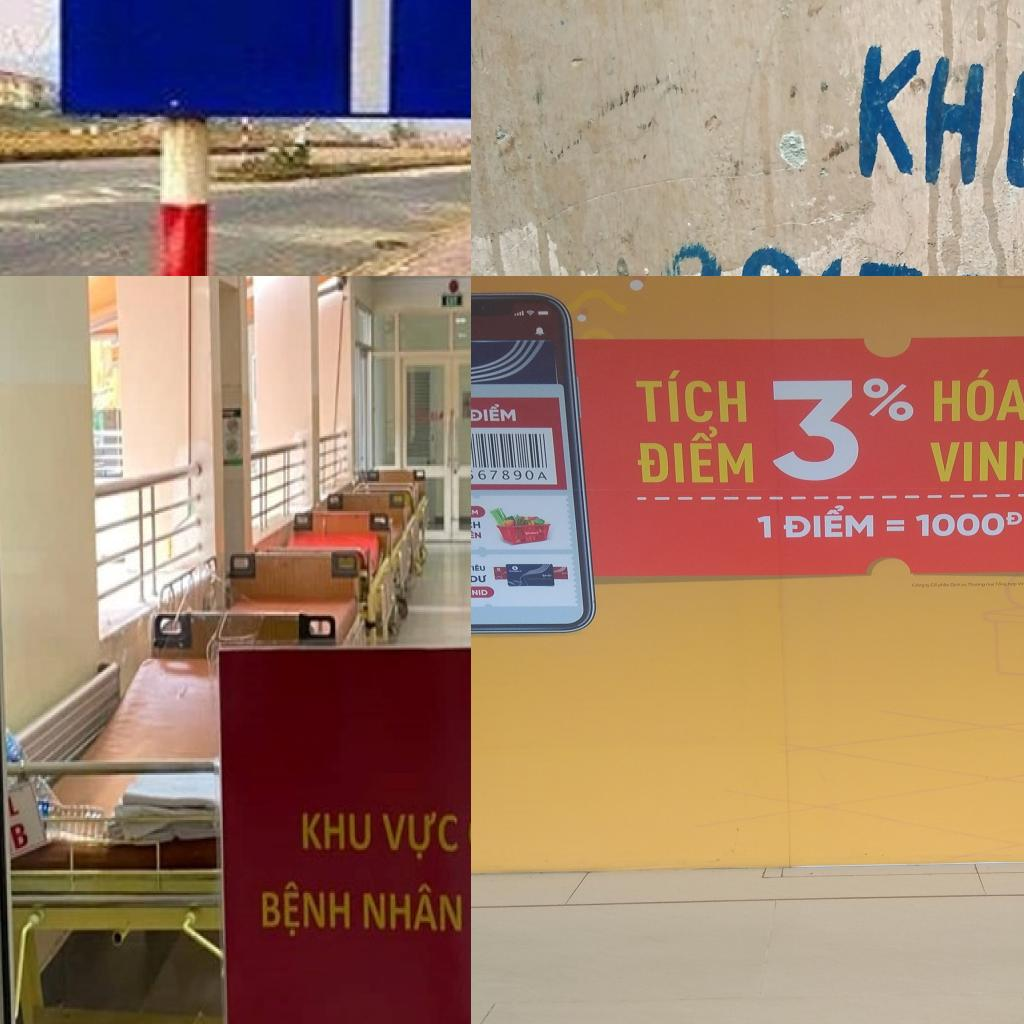text: (760, 372, 919, 486), (916, 46, 990, 194), (853, 34, 928, 178), (629, 424, 757, 485), (625, 365, 752, 425), (252, 874, 356, 944), (360, 878, 464, 940), (924, 364, 1024, 424), (376, 803, 464, 863), (922, 437, 1024, 483), (996, 46, 1024, 207), (776, 498, 878, 541), (299, 803, 375, 857), (908, 509, 1024, 541), (471, 468, 552, 481), (471, 402, 518, 423), (755, 512, 775, 541), (7, 794, 22, 820), (471, 573, 488, 584), (471, 563, 487, 572), (471, 588, 489, 596), (471, 529, 484, 539), (471, 520, 483, 530), (471, 506, 479, 515), (560, 572, 568, 575)
